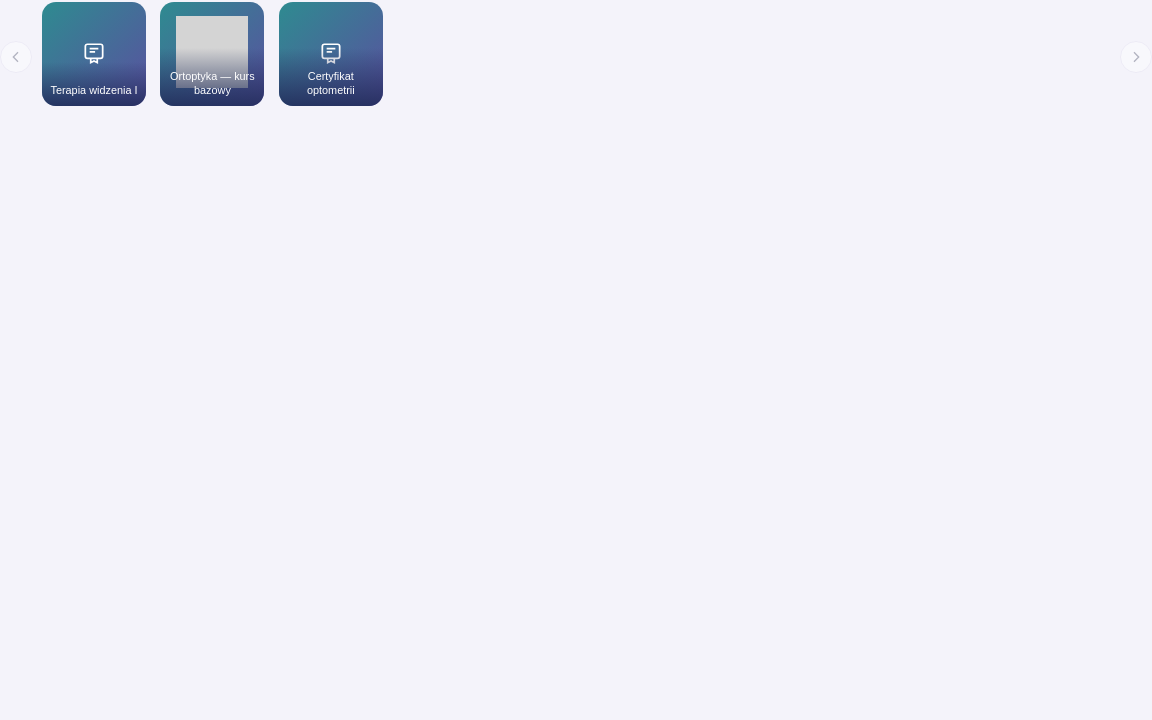
Test: CertificatesSlider › przycisk zamknięcia (w dialogu) zamyka lightbox
Click the button "Terapia widzenia I" at (94, 54), box [42,2,146,106]
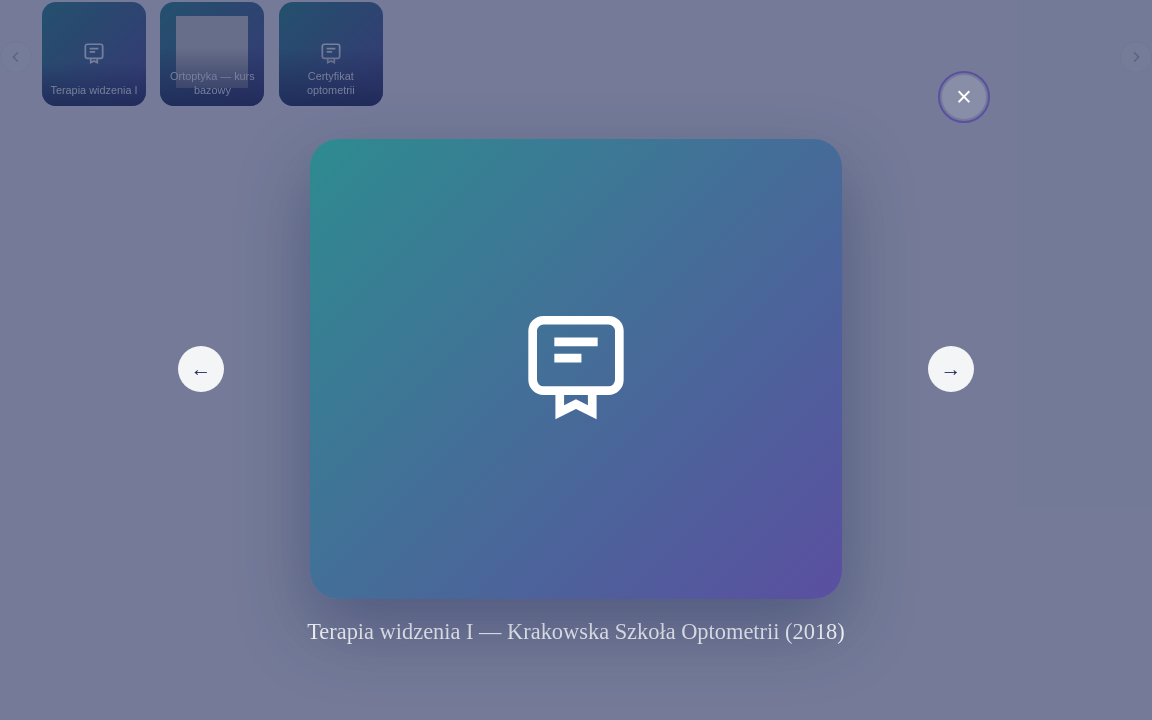
Click the button named "Zamknij" at (964, 97), box [942,75,986,119]
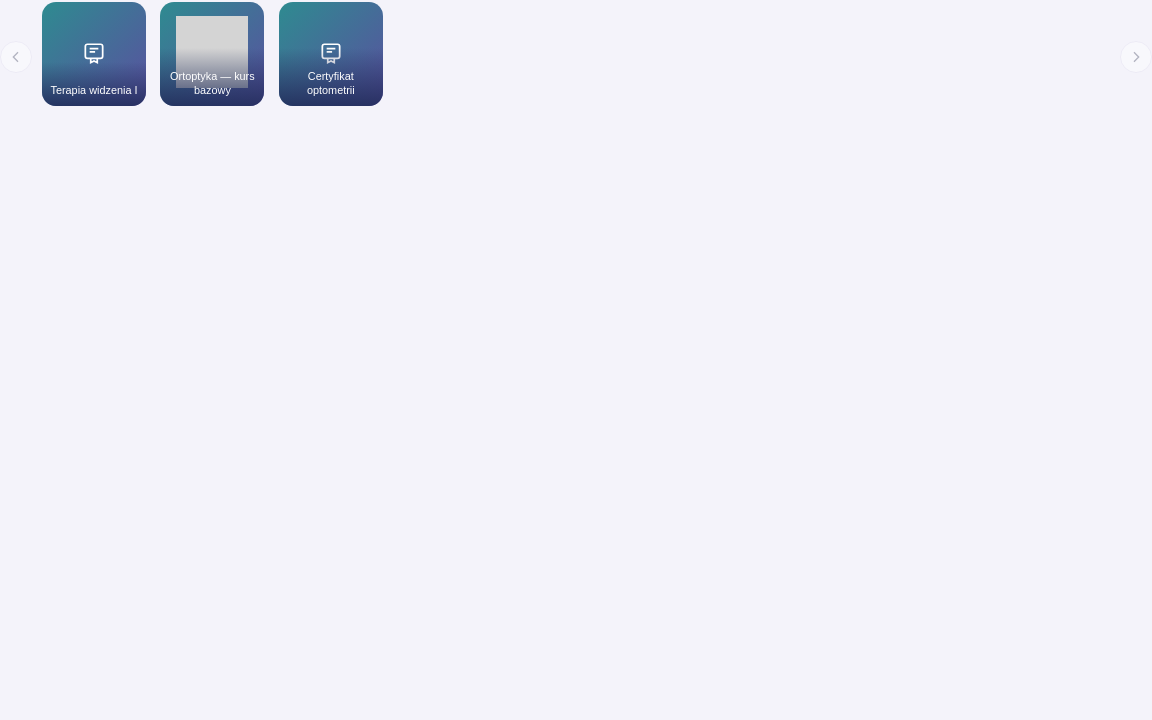
Expected: the dialog is gone
